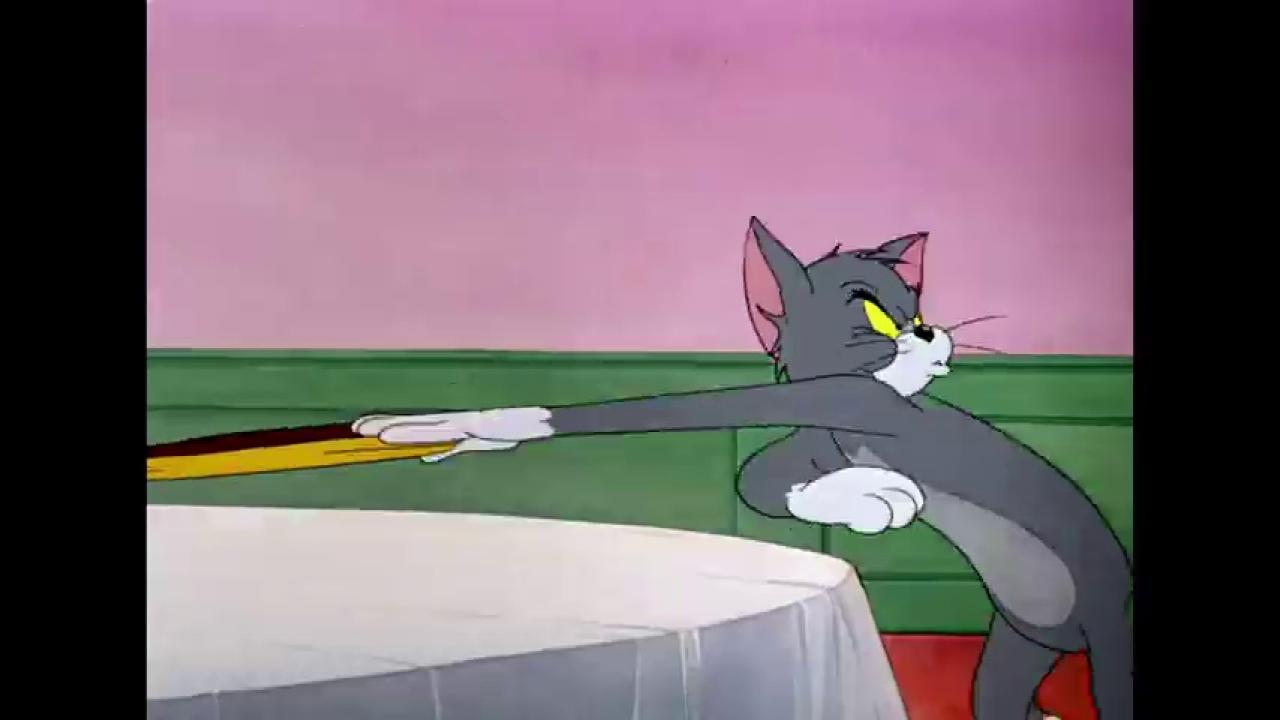Tom: (349, 213, 1135, 720)
